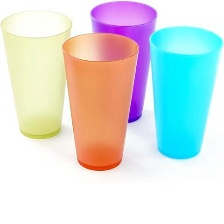glass: (60, 28, 138, 175), (146, 22, 224, 162), (0, 6, 75, 142), (85, 0, 162, 126)
